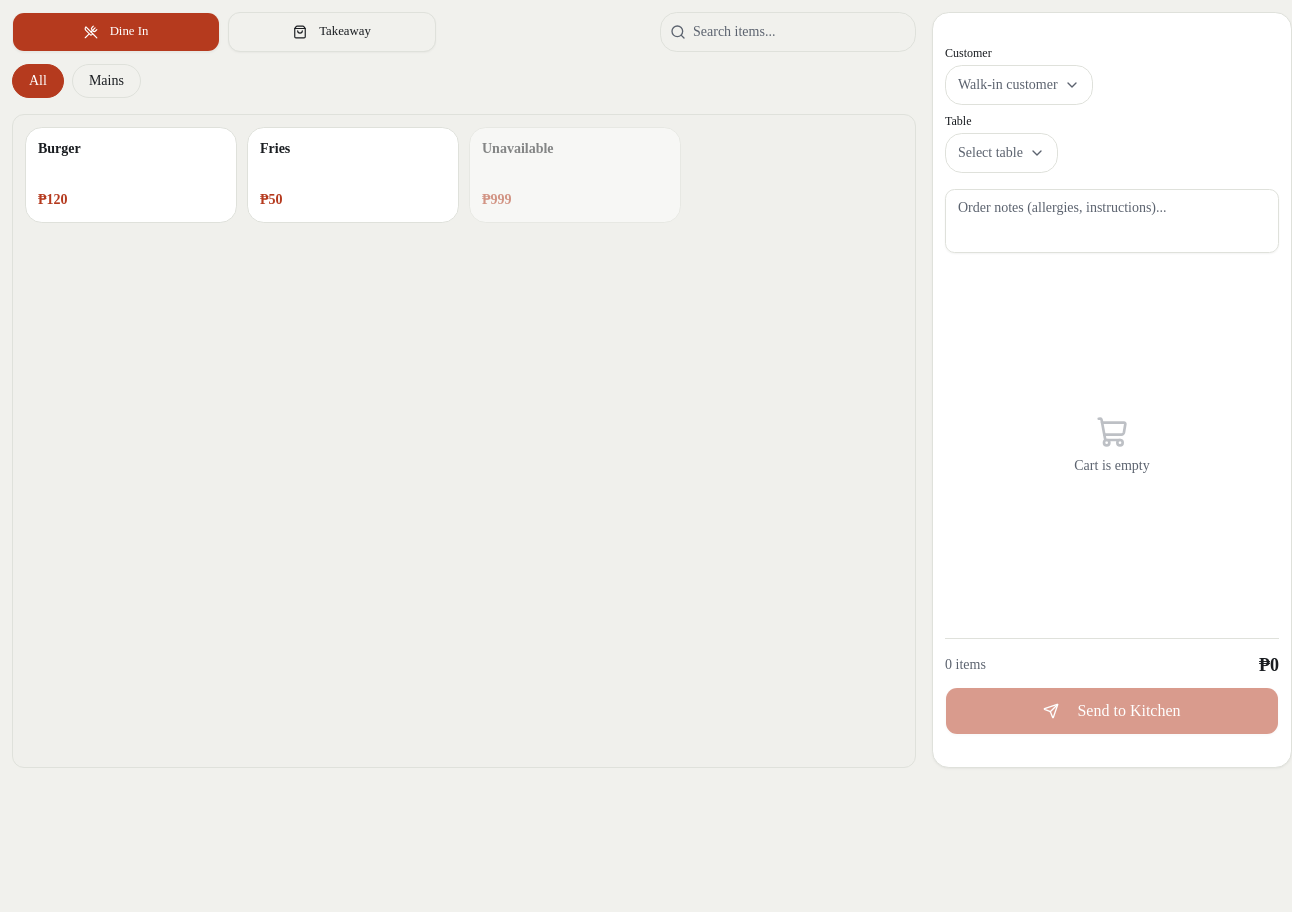
it: PosOrderScreen › adds an item, increments and removes it from the cart
The width and height of the screenshot is (1292, 912).
Click the button with aria-label "Add Burger to order" at (131, 175), box [25, 127, 237, 223]
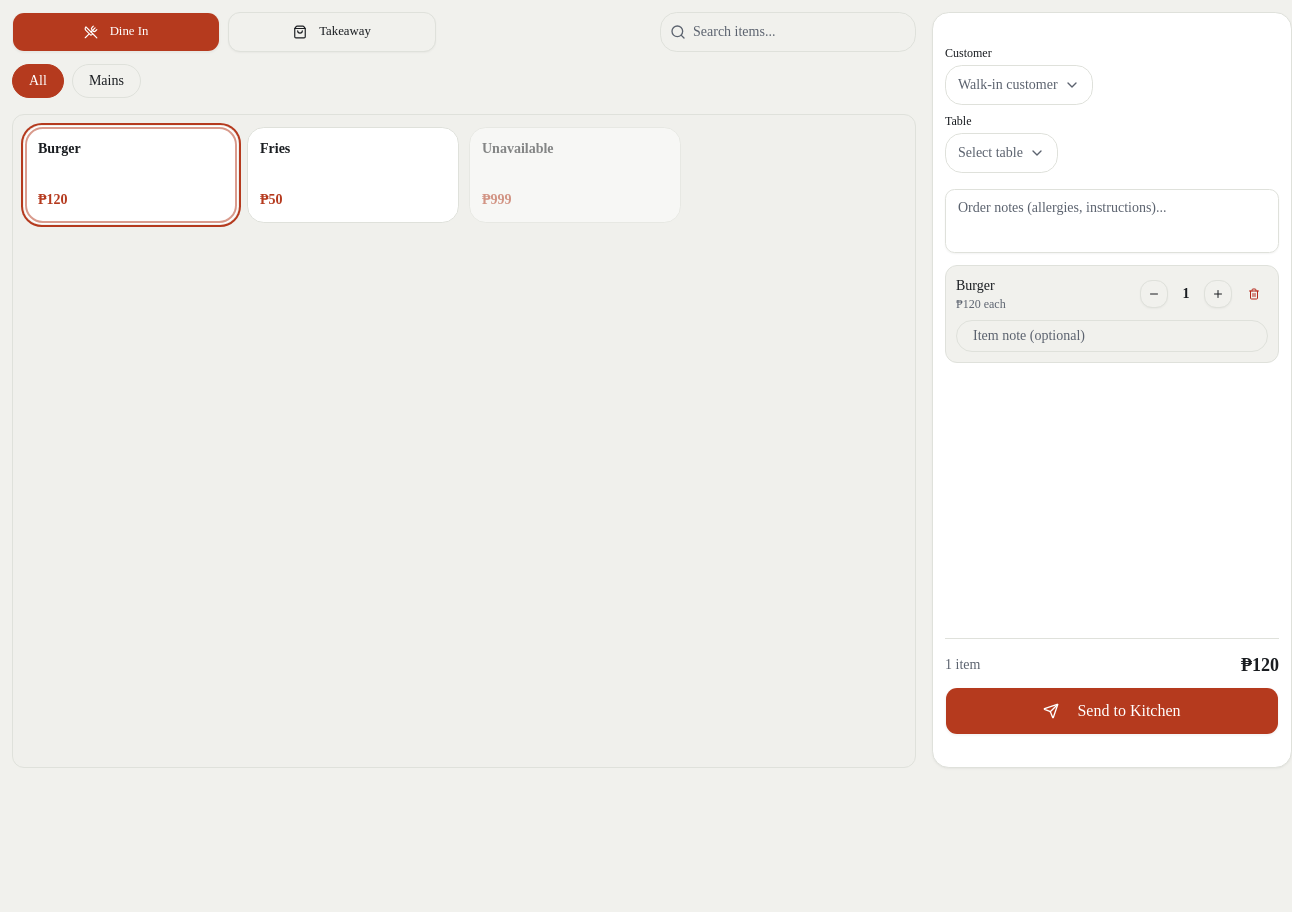
Expected: the 1st text "₱120" is shown, [38, 190, 68, 210]
Now the text "1 item" is shown, box [945, 655, 980, 675]
# Increment quantity
Click the button named "Increase Burger quantity" at (1218, 294), box [1204, 280, 1232, 308]
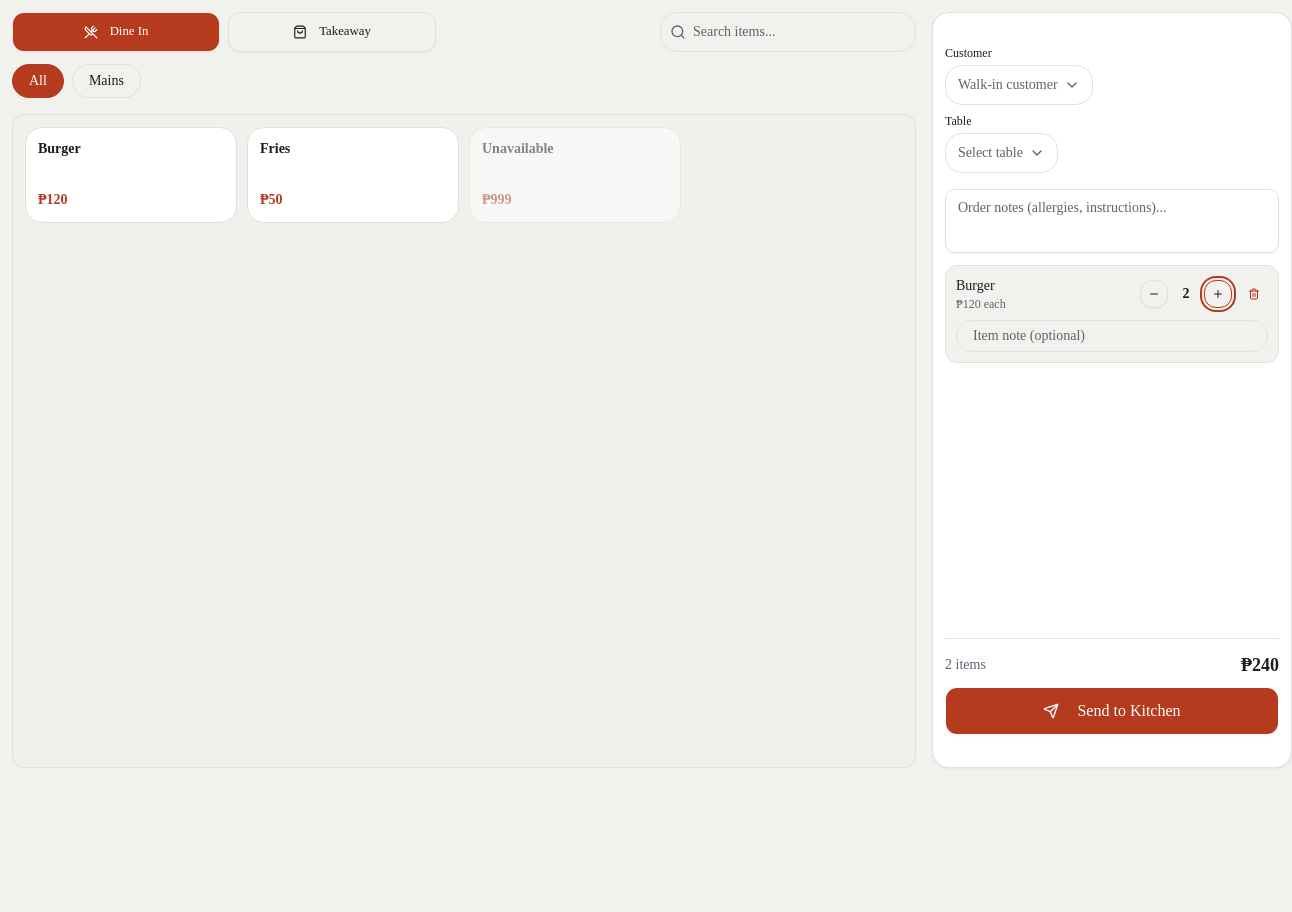
Now the text "2 items" is shown, box [945, 655, 986, 675]
Now the text "₱240" is shown, box [1241, 651, 1279, 679]
# Decrement back to 1
Click the button named "Decrease Burger quantity" at (1154, 294), box [1140, 280, 1168, 308]
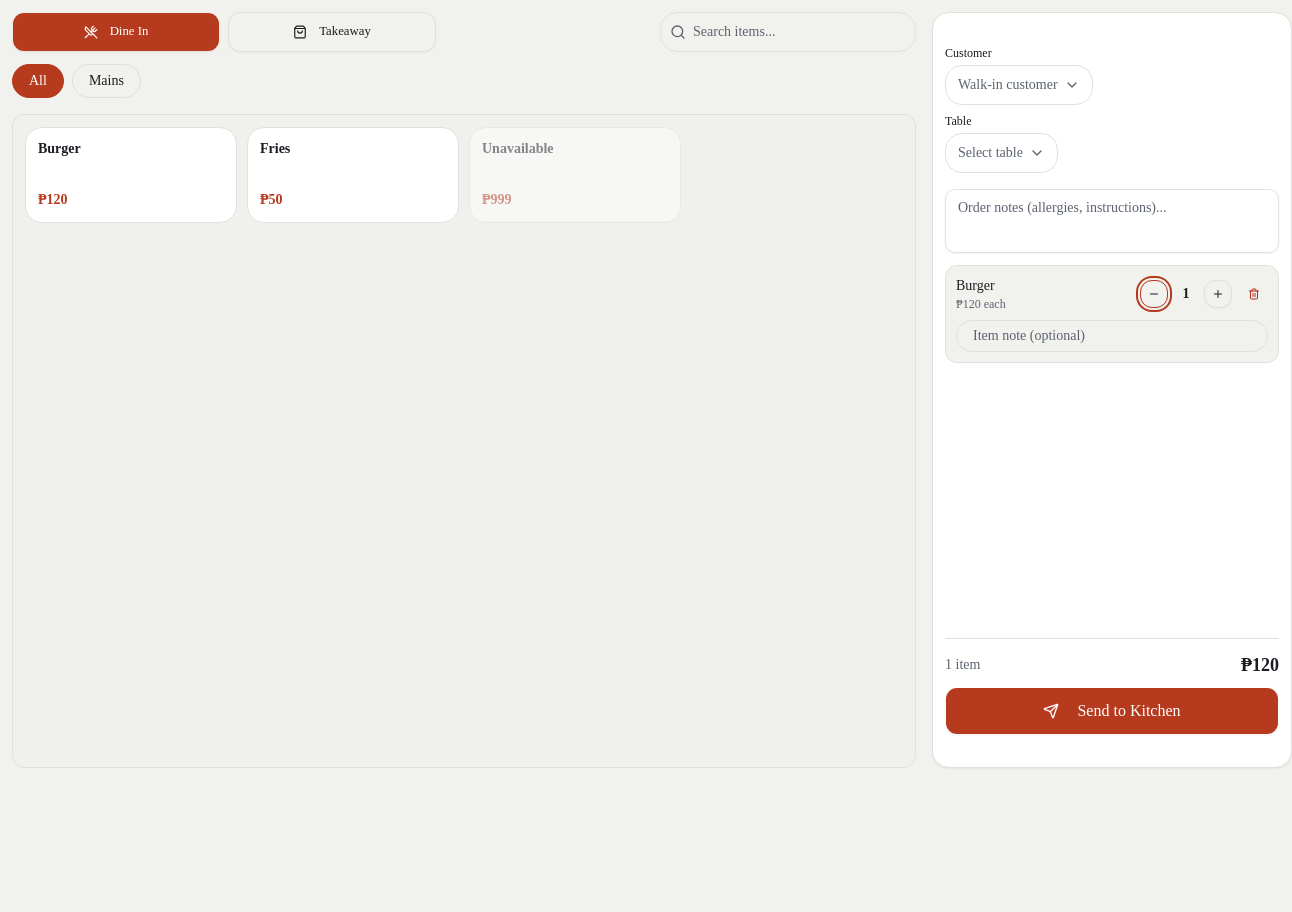
Now the text "1 item" is shown, box [945, 655, 980, 675]
# Remove the item entirely
Click the button named "Remove Burger" at (1254, 294), box [1240, 280, 1268, 308]
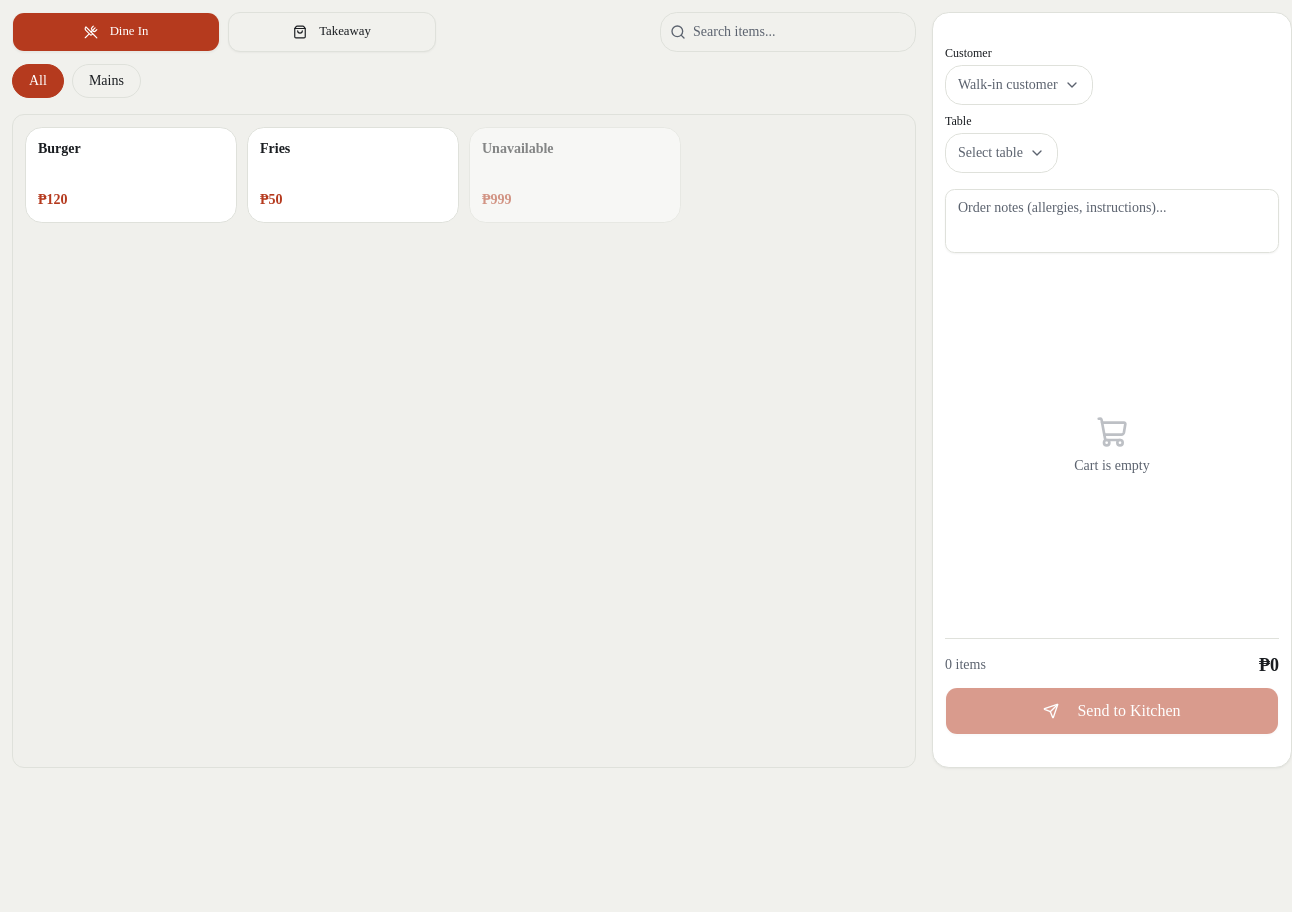
Now the text "Cart is empty" is shown, box [1074, 456, 1150, 476]
Now the button "Send to Kitchen" is disabled, box [945, 687, 1279, 735]
